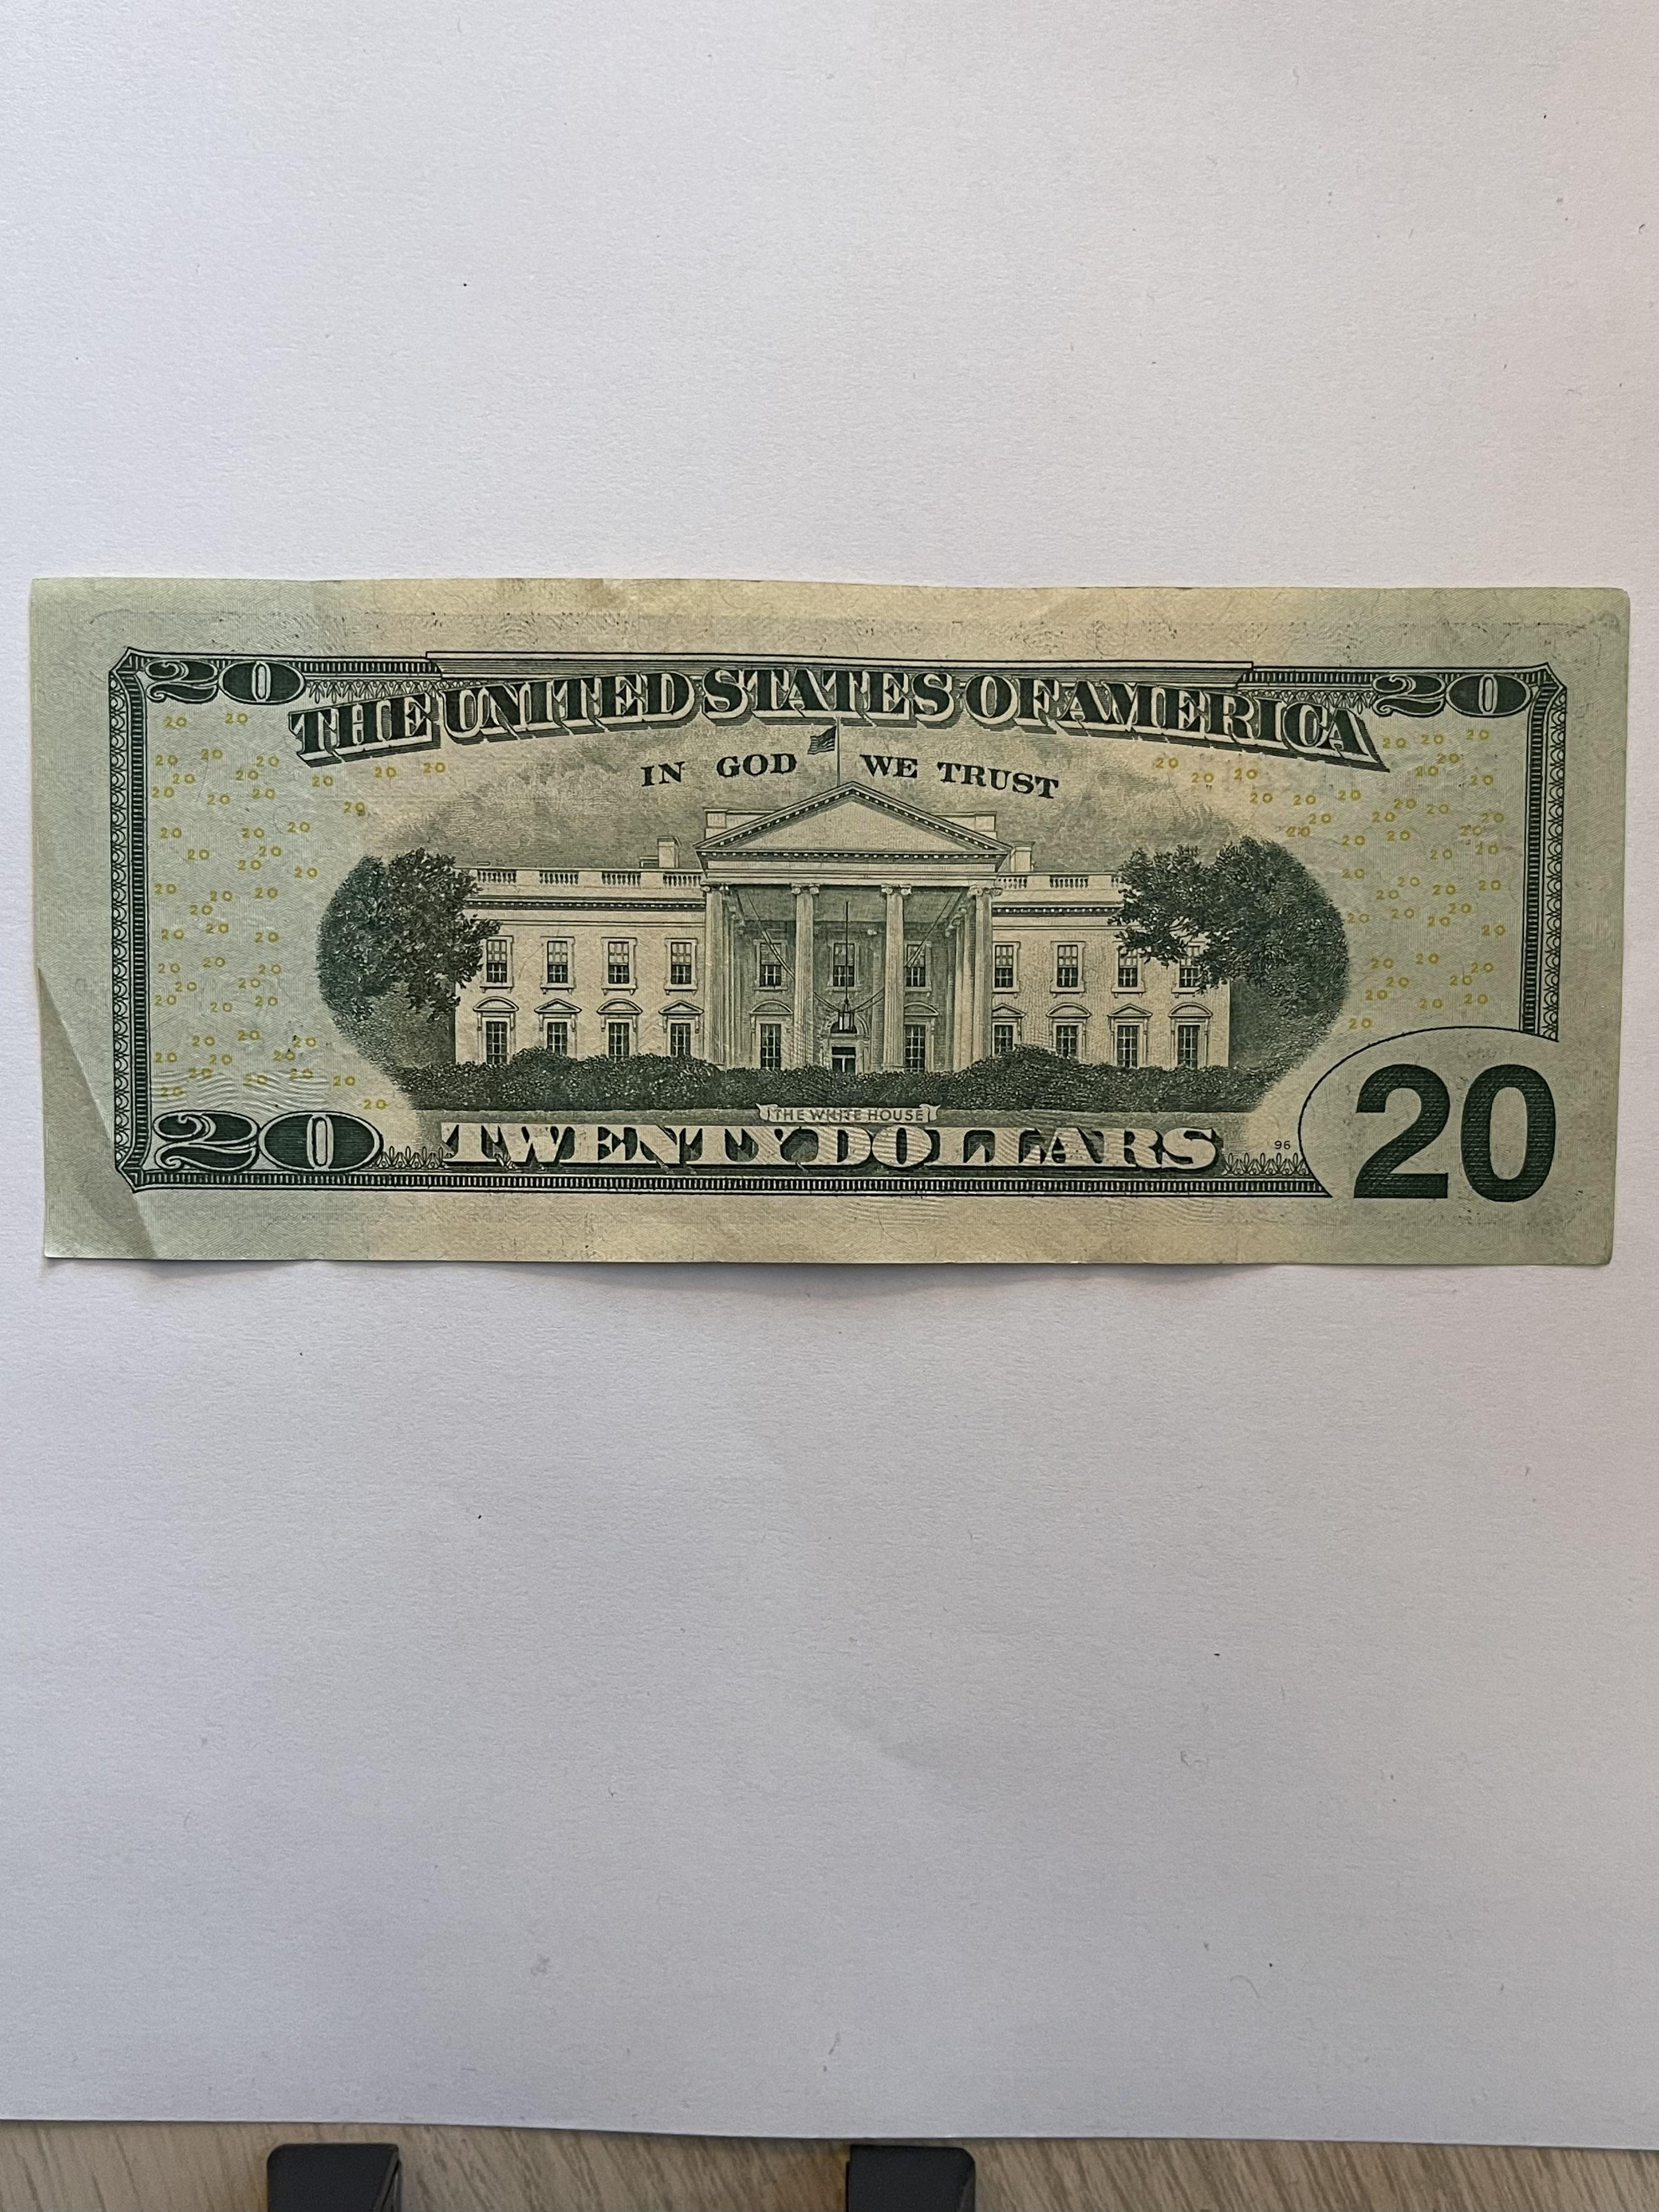TwentyBill: (26, 575, 1633, 1269)
